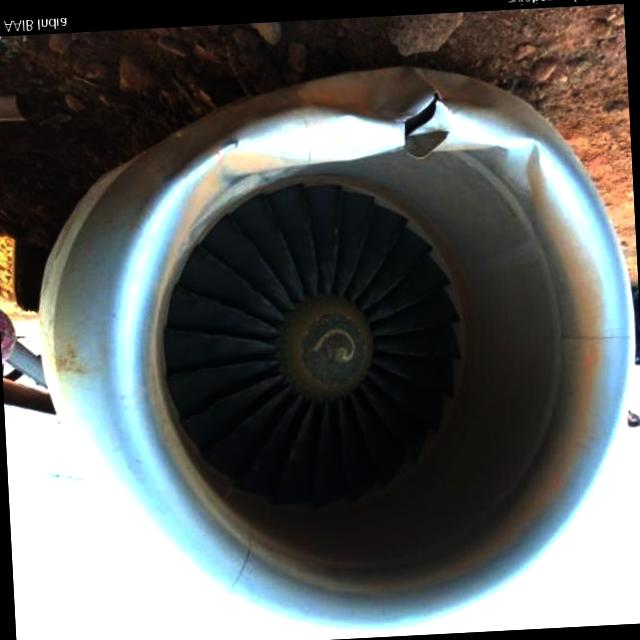crack: (400, 90, 445, 150)
dent: (235, 106, 405, 170), (500, 135, 546, 199)
